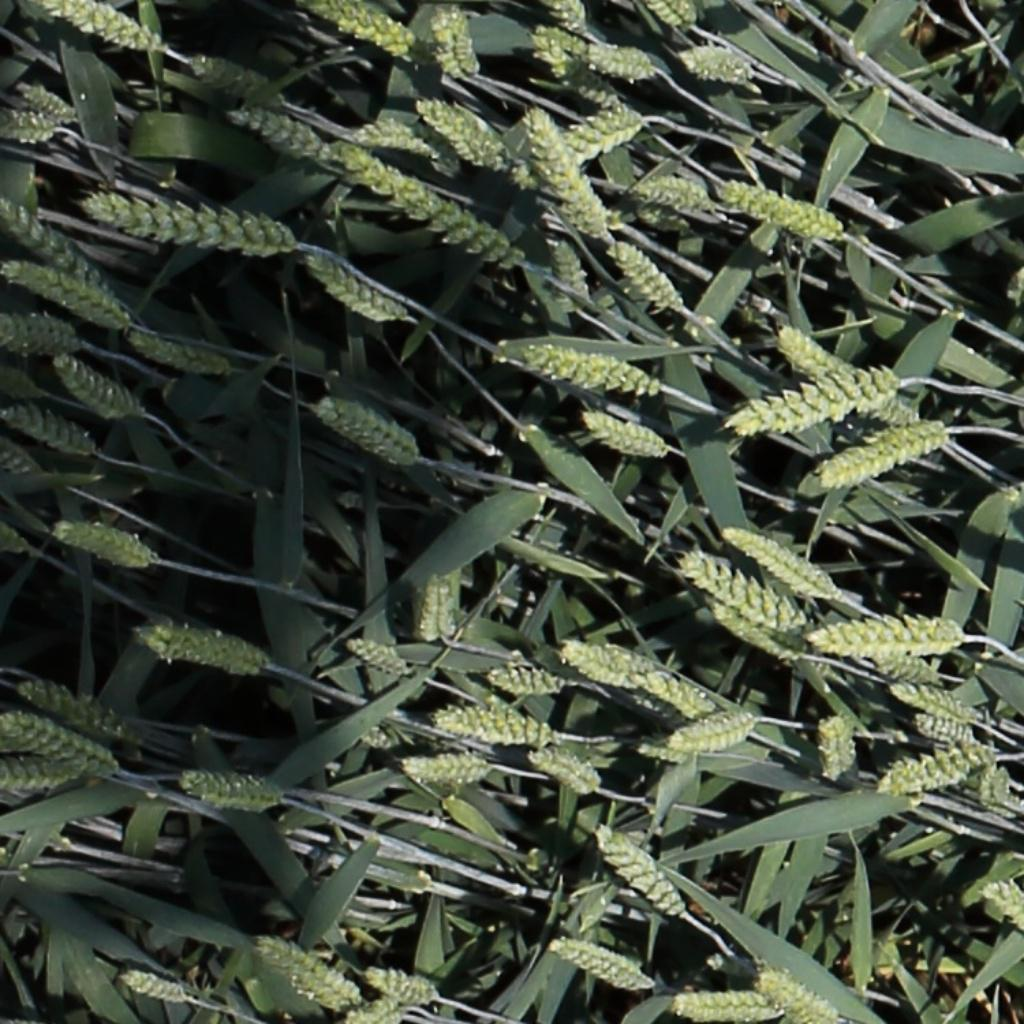0-0: (323, 141, 527, 271), (80, 195, 300, 257), (521, 99, 604, 238), (0, 196, 113, 294), (679, 555, 801, 634), (719, 178, 849, 248), (591, 827, 685, 922), (817, 425, 947, 491), (2, 259, 126, 323), (723, 527, 834, 598), (16, 684, 139, 748), (135, 622, 267, 681), (525, 346, 662, 402), (337, 123, 473, 179), (4, 713, 120, 778), (808, 612, 964, 659), (301, 249, 402, 320), (251, 937, 359, 1002), (305, 0, 425, 57), (532, 38, 621, 111), (879, 743, 1003, 795), (309, 398, 412, 458), (50, 352, 139, 417), (228, 105, 333, 159), (607, 237, 682, 312), (426, 700, 551, 745), (532, 30, 653, 75), (51, 522, 155, 574), (47, 0, 154, 50), (548, 939, 648, 991), (748, 967, 839, 1024), (1, 405, 95, 458), (708, 603, 790, 663), (413, 96, 502, 151), (563, 641, 658, 692), (853, 644, 950, 693), (176, 771, 281, 815), (125, 331, 226, 372), (580, 410, 666, 457), (0, 312, 81, 361), (0, 758, 81, 807), (427, 6, 481, 78), (544, 229, 593, 305), (670, 990, 788, 1021), (888, 685, 977, 726), (558, 109, 637, 155), (667, 709, 757, 749), (527, 748, 604, 794), (676, 42, 759, 83), (188, 57, 268, 99), (398, 752, 496, 786), (637, 670, 706, 716), (536, 557, 626, 592), (775, 326, 838, 376), (419, 567, 457, 646), (907, 712, 978, 752), (633, 172, 710, 208), (19, 81, 76, 126), (360, 968, 434, 1002), (342, 637, 406, 675), (984, 883, 1024, 943), (118, 972, 188, 1004), (819, 711, 845, 789), (484, 668, 562, 693), (632, 199, 689, 232), (1, 113, 59, 145), (651, 1, 699, 32), (548, 0, 589, 36), (980, 761, 1010, 810), (348, 995, 397, 1024)
